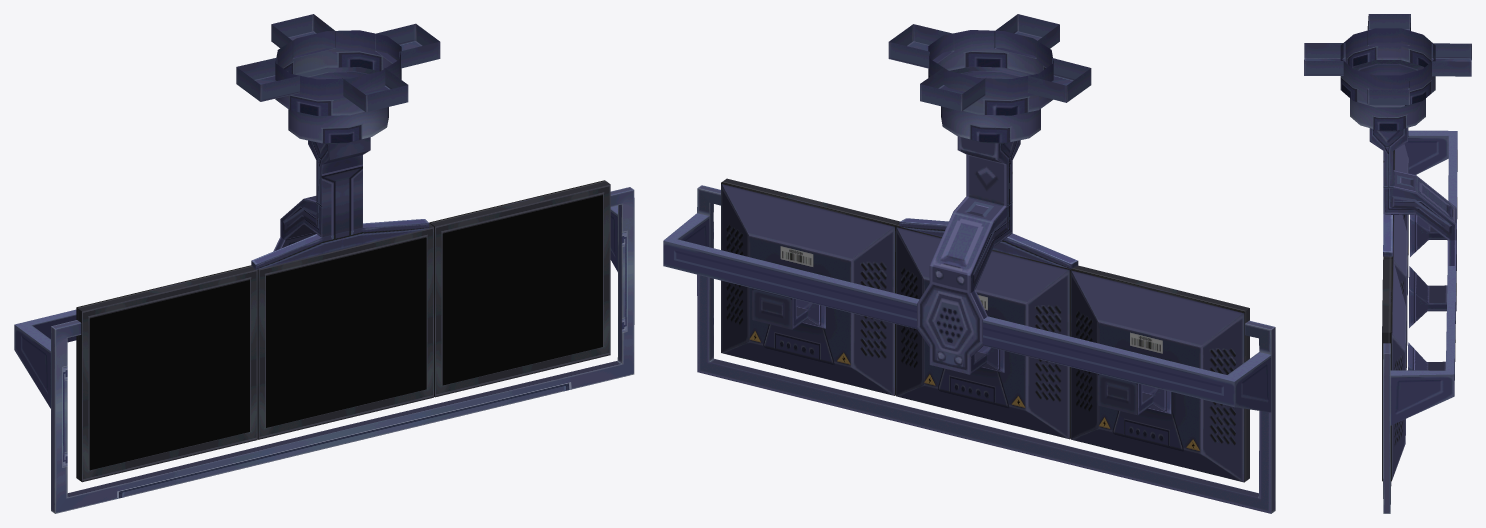
The model's file is Building_GHQ_xsp.FBX.
The picture shows the model from 3 angles, left to right: view 1: azimuth 30°, elevation 25°; view 2: azimuth 150°, elevation 25°; view 3: azimuth 270°, elevation 25°; orthographic projection. The views are drawn at different scales.
Parts seen in each view (by area): view 1: Building_GHQ_xsp2, Building_GHQ_xsp; view 2: Building_GHQ_xsp; view 3: Building_GHQ_xsp.
Boxes of the visible parts, x1=… form: Building_GHQ_xsp2: x1=89, y1=195, x2=602, y2=470; Building_GHQ_xsp: x1=14, y1=14, x2=634, y2=513; Building_GHQ_xsp: x1=663, y1=14, x2=1275, y2=513; Building_GHQ_xsp: x1=1304, y1=14, x2=1471, y2=513.
Size of the model in its own units: 116 by 74.33 by 33.42.
